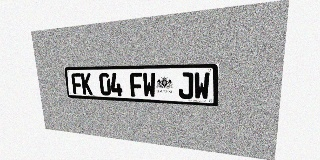0: (99, 73, 111, 96)
4: (110, 73, 123, 96)
F: (130, 73, 143, 97), (71, 73, 83, 94)
J: (178, 72, 193, 99)
K: (81, 73, 93, 95)
W: (194, 72, 210, 100), (142, 72, 156, 98)
